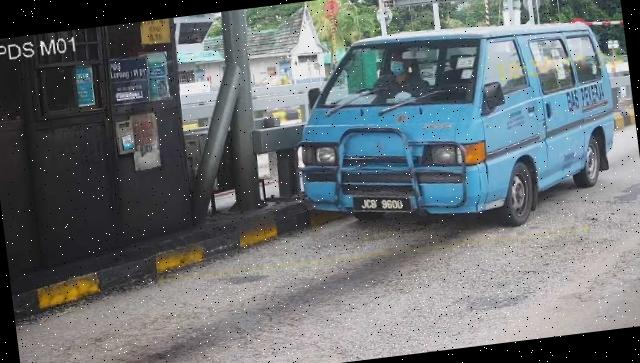License_Plate: (352, 190, 416, 222)
van: (282, 9, 628, 253)
